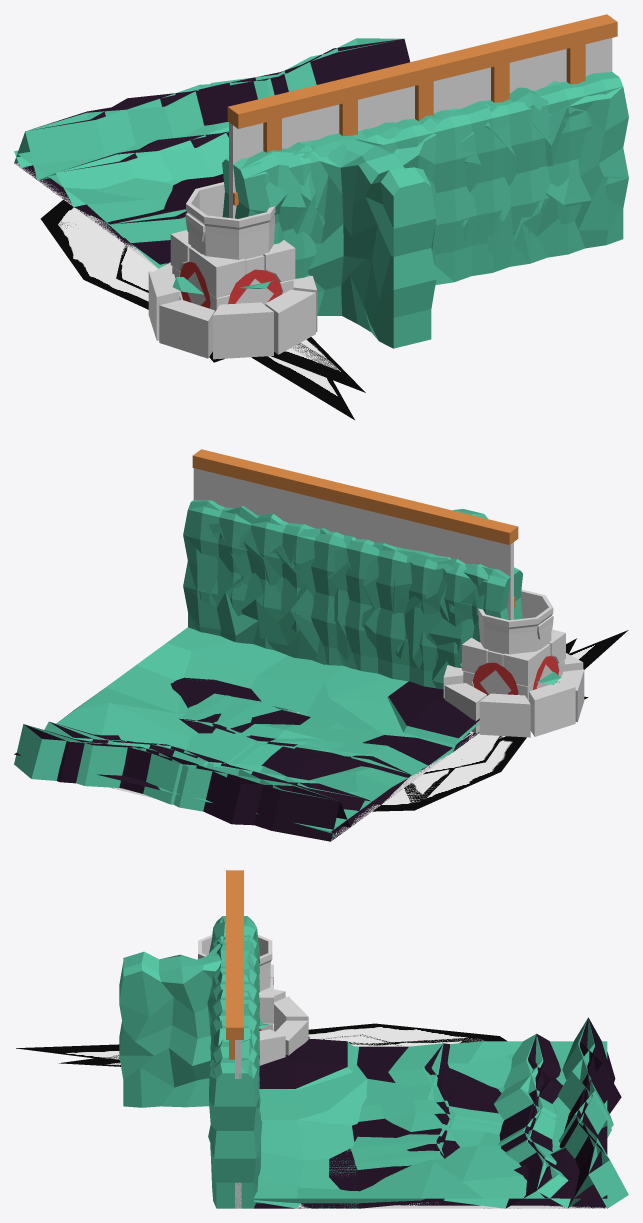
The model's file is Stuff_2.fbx.
3 renders of one model, top to bottom at view 1: azimuth 30°, elevation 25°; view 2: azimuth 150°, elevation 25°; view 3: azimuth 270°, elevation 25°, orthographic. The views are drawn at different scales.
Parts seen in each view (by area): view 1: Hecke_ecke, Hecke_breit_0, Wand_breit, Hecke_breit_1, steinkreis, boden_ende_3, boden_ende_4, ccube, riss_2, boden_weg zu _tor, tonne, boden_ende_1 (+3 smaller); view 2: boden_weg zu _tor, Hecke_breit_0, Hecke_breit_1, Wand_breit, boden_ende_1, boden_ende_3, boden_ende_2, boden_ende_4, steinkreis, ccube, boden_kreis, tonne (+6 smaller); view 3: boden_weg zu _tor, Hecke_ecke, boden_ende_4, Hecke_breit_0, boden_ende_3, boden_ende_1, boden_ende_2, boden_kreis, Hecke_breit_1, Wand_breit, riss_2, steinkreis (+6 smaller).
Boxes of the visible parts, box(x1,y1,x2,y2) form: Hecke_ecke: box(222, 139, 436, 348); Hecke_breit_0: box(222, 72, 628, 282); Wand_breit: box(227, 14, 617, 218); Hecke_breit_1: box(226, 81, 628, 284); steinkreis: box(148, 262, 317, 359); boden_ende_3: box(14, 40, 394, 268); boden_ende_4: box(27, 38, 403, 224); ccube: box(170, 230, 295, 311); riss_2: box(41, 198, 361, 389); boden_weg zu _tor: box(14, 122, 228, 265); tonne: box(185, 182, 275, 259); boden_ende_1: box(33, 39, 409, 224); boden_weg zu _tor: box(56, 627, 479, 831); Hecke_breit_0: box(183, 500, 522, 688); Hecke_breit_1: box(183, 500, 519, 669); Wand_breit: box(192, 449, 518, 620); boden_ende_1: box(34, 679, 479, 841); boden_ende_3: box(26, 693, 463, 811); boden_ende_2: box(24, 710, 409, 825); boden_ende_4: box(14, 679, 408, 804); steinkreis: box(443, 653, 584, 737); ccube: box(462, 629, 565, 700); boden_kreis: box(14, 681, 479, 837); tonne: box(478, 589, 553, 654); boden_weg zu _tor: box(254, 1041, 607, 1198); Hecke_ecke: box(119, 916, 262, 1107); boden_ende_4: box(287, 1018, 628, 1208); Hecke_breit_0: box(210, 916, 259, 1208); boden_ende_3: box(254, 1018, 613, 1208); boden_ende_1: box(254, 1018, 615, 1208); boden_ende_2: box(357, 1018, 621, 1199); boden_kreis: box(254, 1038, 607, 1203); Hecke_breit_1: box(207, 916, 262, 1207); Wand_breit: box(226, 870, 243, 1208); riss_2: box(70, 1023, 507, 1065); steinkreis: box(259, 989, 308, 1065).
Size of the model in its own units: 604 by 288 by 826.
